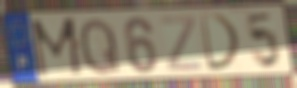5: (243, 11, 282, 71)
6: (122, 15, 158, 75)
D: (198, 12, 244, 73)
M: (29, 16, 86, 81)
Q: (78, 16, 123, 77)
Z: (158, 14, 203, 73)
